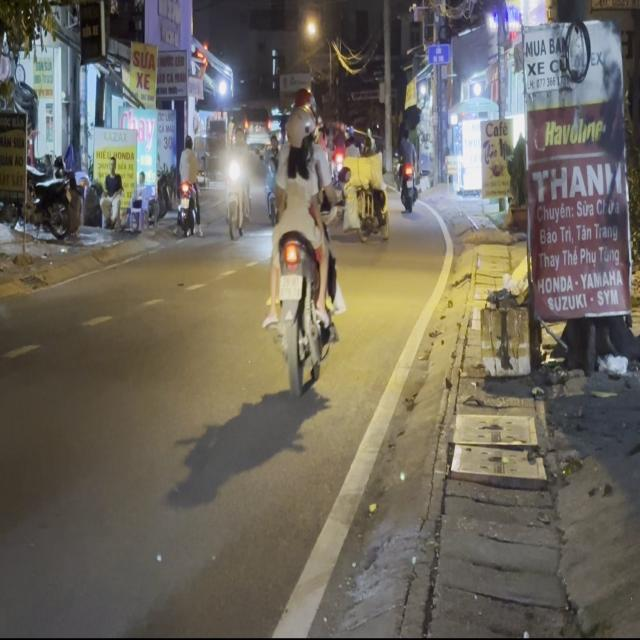helmet: (284, 111, 306, 153), (295, 87, 317, 121)
licenseplate: (260, 83, 343, 394)
nohelmet: (278, 274, 302, 299)
